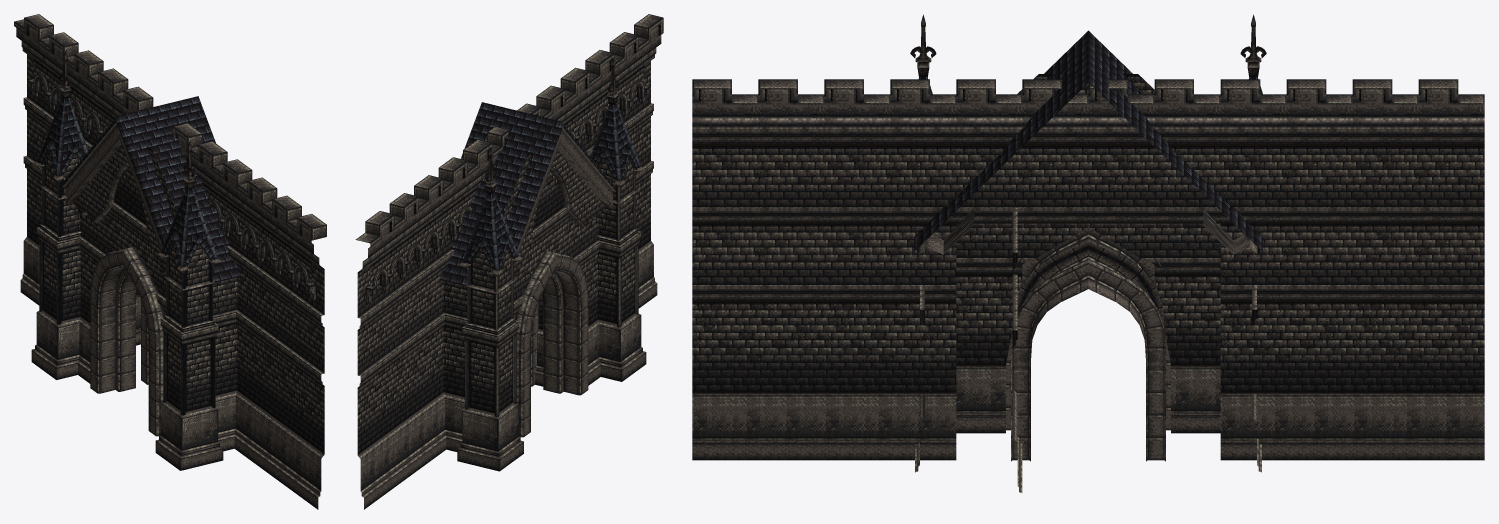
File: EnvBdgMD_Castle_LostSeed_A_Enter_A.FBX
3 renders of one model, left to right at view 1: azimuth 30°, elevation 25°; view 2: azimuth 150°, elevation 25°; view 3: azimuth 270°, elevation 25°, orthographic. The views are drawn at different scales.
Parts seen in each view (by area): view 1: EnvBdgMD_Castle_LostSeed_A_Enter_A; view 2: EnvBdgMD_Castle_LostSeed_A_Enter_A; view 3: EnvBdgMD_Castle_LostSeed_A_Enter_A.
Boxes of the visible parts, x1,y1,x2,y2 form: EnvBdgMD_Castle_LostSeed_A_Enter_A: [14, 14, 326, 509]; EnvBdgMD_Castle_LostSeed_A_Enter_A: [355, 14, 663, 509]; EnvBdgMD_Castle_LostSeed_A_Enter_A: [692, 14, 1484, 492].
Bounding box in the file's own units: 650 × 1400 × 2400.
